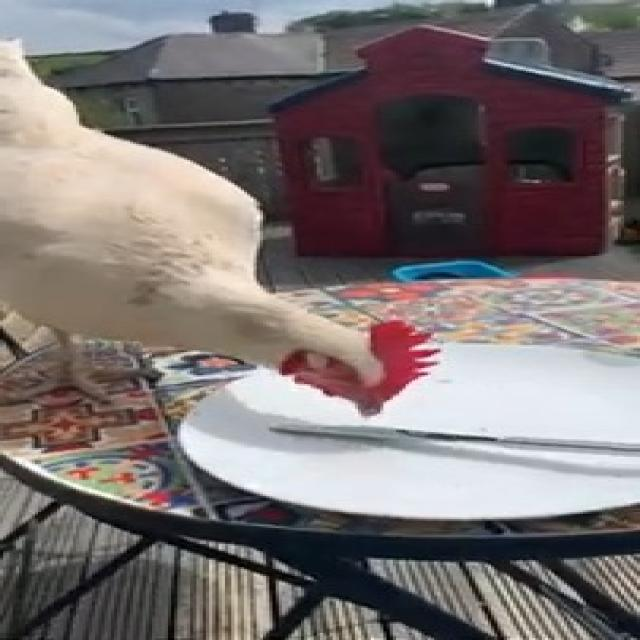pecking: (0, 20, 434, 430)
